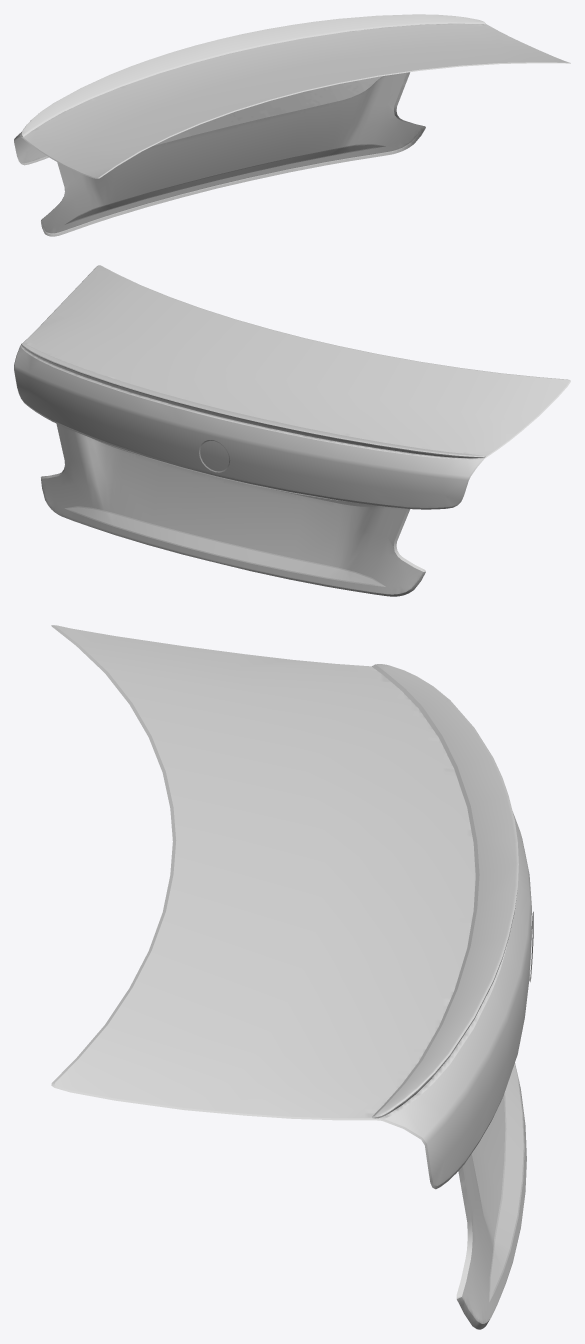
The model's file is M2trunk.glb.
3 renders of one model, top to bottom at view 1: azimuth 30°, elevation 25°; view 2: azimuth 150°, elevation 25°; view 3: azimuth 270°, elevation 25°, orthographic. The views are drawn at different scales.
Visible parts, largest first — view 1: Object_122; view 2: Object_122; view 3: Object_122.
Boxes of the visible parts, x1,y1,x2,y2 form: Object_122: (14,14,570,236); Object_122: (14,265,570,596); Object_122: (51,625,533,1329).
Bounding box in the file's own units: 1.26 × 0.4101 × 0.555.
1 material, 1 textured.
